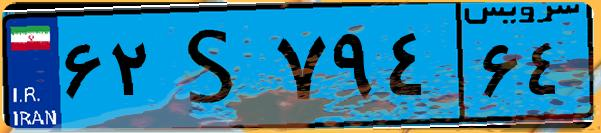2: (110, 28, 158, 98)
4: (385, 28, 445, 110), (525, 38, 570, 115)
6: (57, 26, 110, 100), (475, 38, 525, 113)
7: (270, 28, 330, 110)
9: (330, 28, 385, 110)
S: (158, 12, 270, 120)
